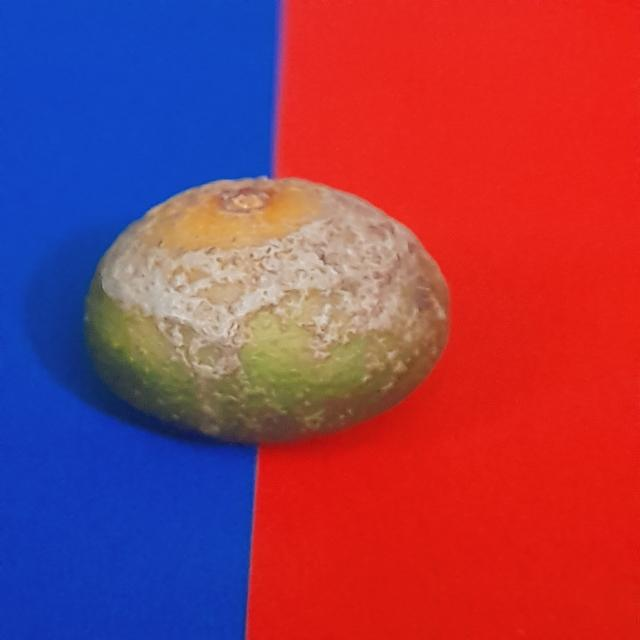thrips: (70, 172, 470, 450)
